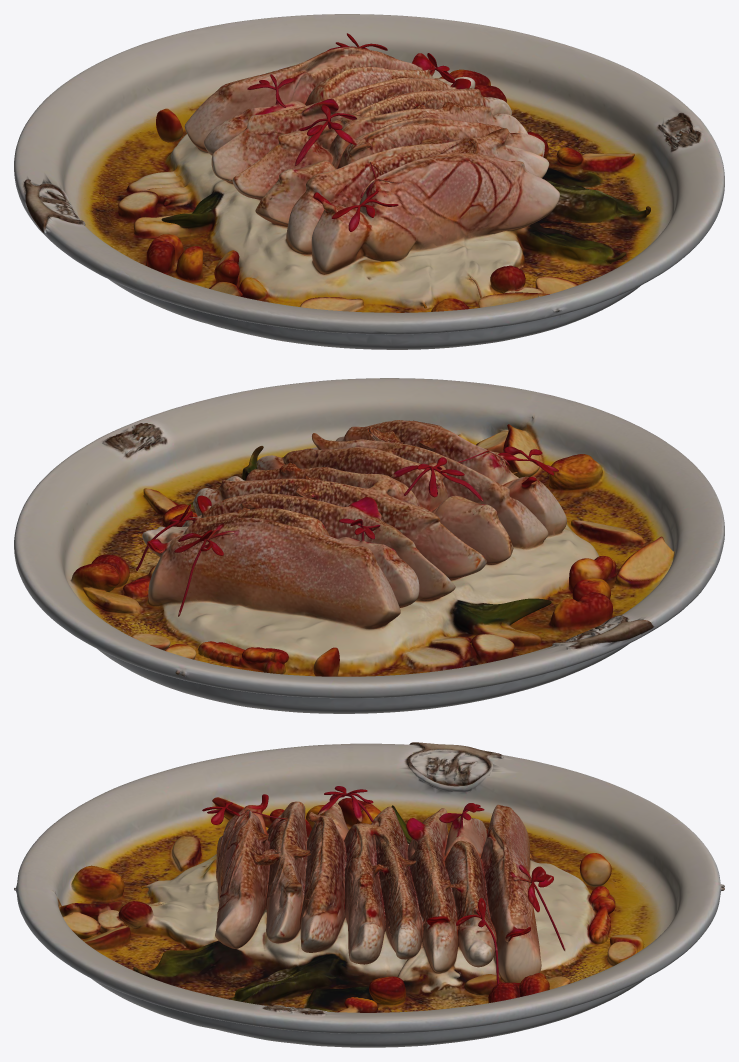
File: aspas-peixe.glb
3 views of the same model, one above another, from view 1: azimuth 30°, elevation 25°; view 2: azimuth 150°, elevation 25°; view 3: azimuth 270°, elevation 25° (orthographic). The views are drawn at different scales.
Visible parts, largest first — view 1: tripo_node_851bd78e-ca0e-48c8-a28f-5db5eb8c1aec; view 2: tripo_node_851bd78e-ca0e-48c8-a28f-5db5eb8c1aec; view 3: tripo_node_851bd78e-ca0e-48c8-a28f-5db5eb8c1aec.
Boxes of the visible parts, <box> form: tripo_node_851bd78e-ca0e-48c8-a28f-5db5eb8c1aec: <box>14,14,724,349</box>; tripo_node_851bd78e-ca0e-48c8-a28f-5db5eb8c1aec: <box>14,378,724,713</box>; tripo_node_851bd78e-ca0e-48c8-a28f-5db5eb8c1aec: <box>14,742,724,1047</box>.
Bounding box in the file's own units: 0.2801 × 0.0589 × 0.3.
1 material, 1 textured.
